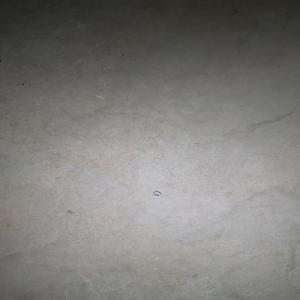Nut: (151, 190, 161, 196)
